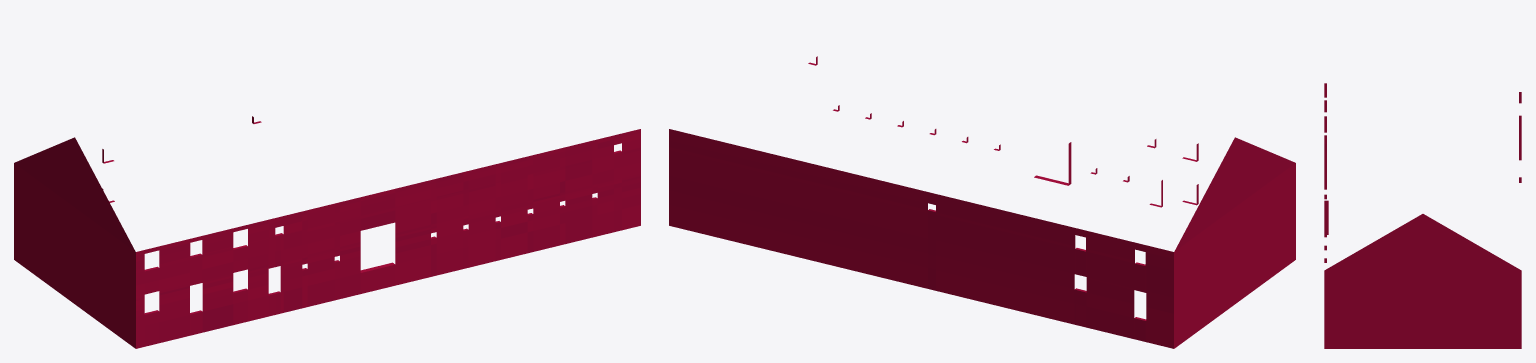
File: SM_Bld_065_Masonry.glb
3 renders of one model, left to right at view 1: azimuth 30°, elevation 25°; view 2: azimuth 150°, elevation 25°; view 3: azimuth 270°, elevation 25°, orthographic. The views are drawn at different scales.
Parts seen in each view (by area): view 1: SM_Bld_065_Masonry; view 2: SM_Bld_065_Masonry; view 3: SM_Bld_065_Masonry.
Boxes of the visible parts, bbox=[...] form: SM_Bld_065_Masonry: bbox=[14, 116, 640, 348]; SM_Bld_065_Masonry: bbox=[669, 56, 1295, 348]; SM_Bld_065_Masonry: bbox=[1324, 83, 1521, 348].
Size of the model in its own units: 37.63 by 11.9 by 15.72.
